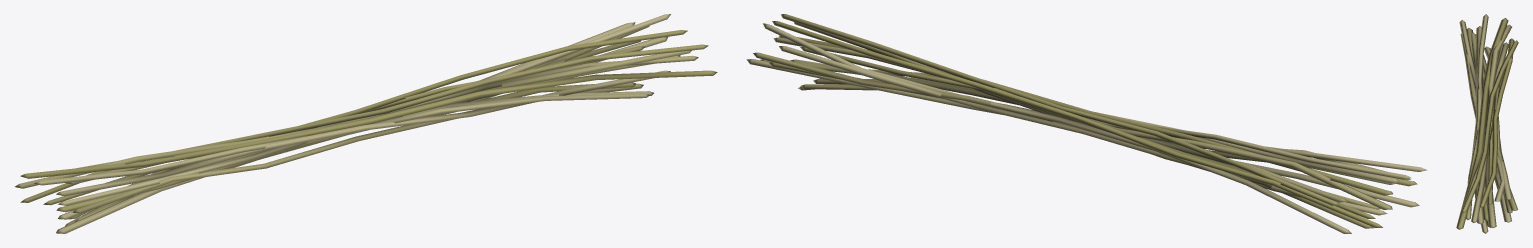
Rendered from fiber.glb.
3 renders of one model, left to right at view 1: azimuth 30°, elevation 25°; view 2: azimuth 150°, elevation 25°; view 3: azimuth 270°, elevation 25°, orthographic. The views are drawn at different scales.
Parts seen in each view (by area): view 1: fiber; view 2: fiber; view 3: fiber.
Part boxes in pixels (x1,y1,x2,y2): fiber: [15, 14, 717, 233]; fiber: [746, 14, 1427, 233]; fiber: [1456, 14, 1518, 233].
Bounding box in the file's own units: 0.4306 × 0.0415 × 0.0582.
